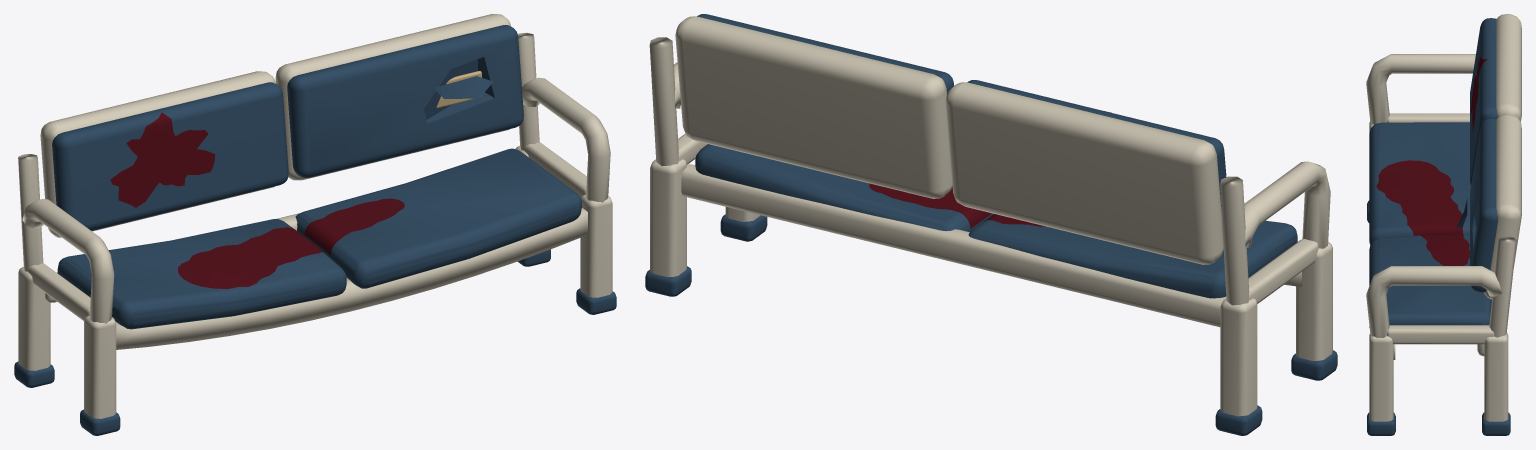
File: sofa.glb
The picture shows the model from 3 angles, left to right: view 1: azimuth 30°, elevation 25°; view 2: azimuth 150°, elevation 25°; view 3: azimuth 270°, elevation 25°; orthographic projection. The views are drawn at different scales.
Visible parts, largest first — view 1: OB_StaffSofa_01_Static; view 2: OB_StaffSofa_01_Static; view 3: OB_StaffSofa_01_Static.
Boxes of the visible parts, <box> form: OB_StaffSofa_01_Static: <box>14,14,616,435</box>; OB_StaffSofa_01_Static: <box>645,14,1337,435</box>; OB_StaffSofa_01_Static: <box>1366,14,1521,435</box>.
Size of the model in its own units: 2.05 by 0.9242 by 0.6027.
